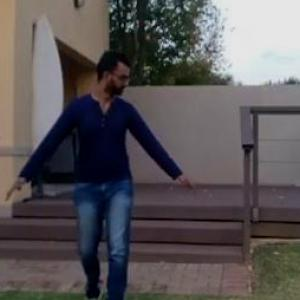land: (2, 37, 212, 298)
